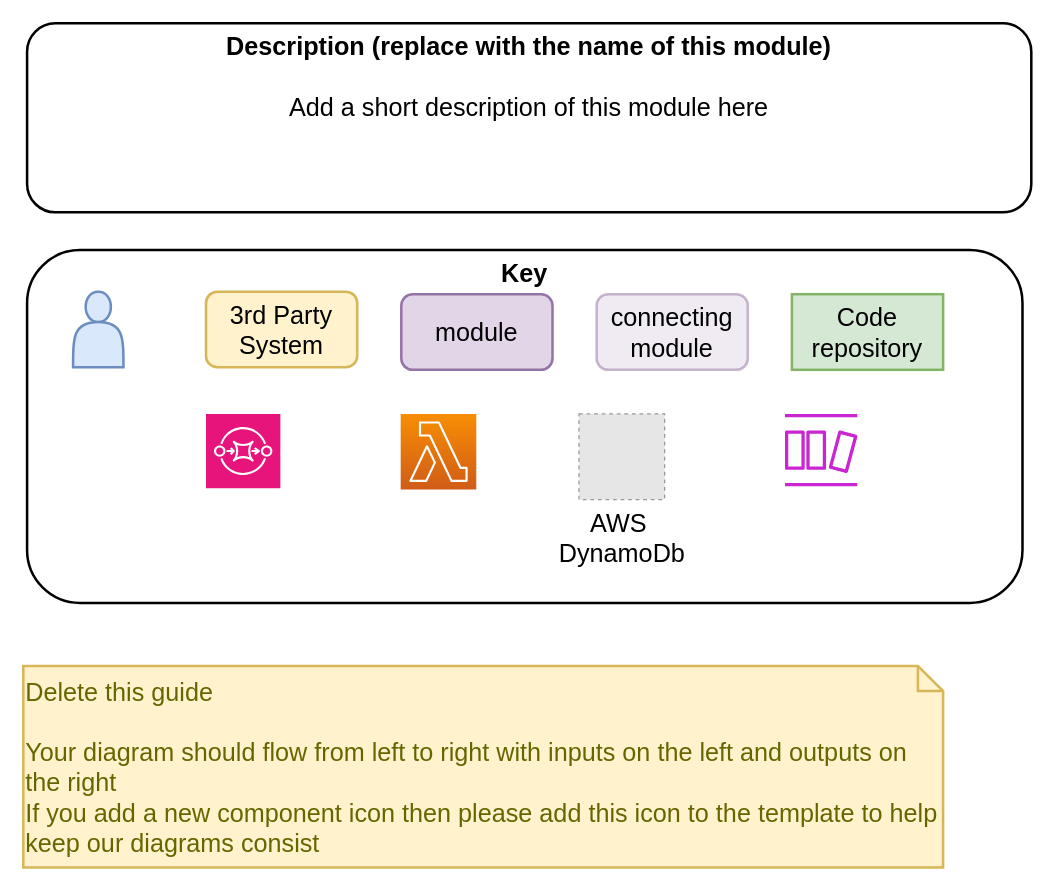
Some shapes in this 1053 by 890 pixel diagram are drawn without their labels. Grey dashed boxes stand in for pictures. Each missing label, with the centre of its shape:
"AWS Lambda" belongs at [438,451].
"AWS SQS" belongs at [242,450].
"DynamoDB Stream" belongs at [820,449].
"Website Vsitor" belongs at [97,329].
